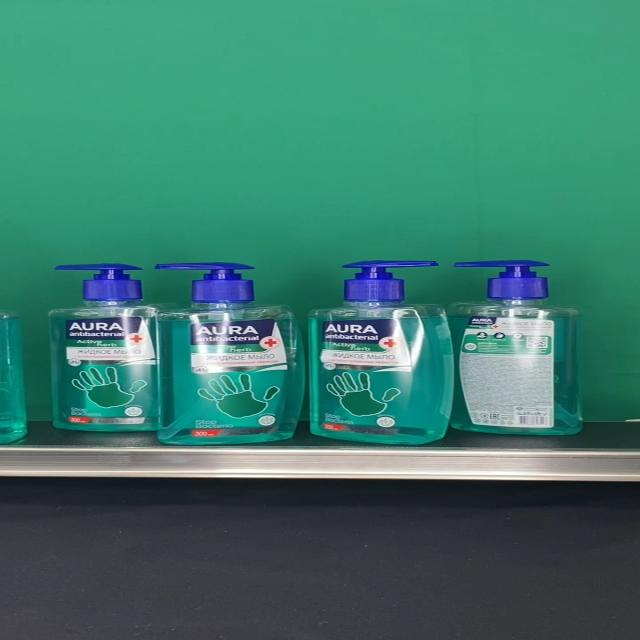Bottle: (157, 262, 305, 444), (308, 260, 454, 444), (448, 259, 583, 436), (48, 264, 180, 431)
Cap: (341, 260, 439, 300), (157, 262, 257, 300), (455, 259, 550, 299), (54, 264, 144, 300)
